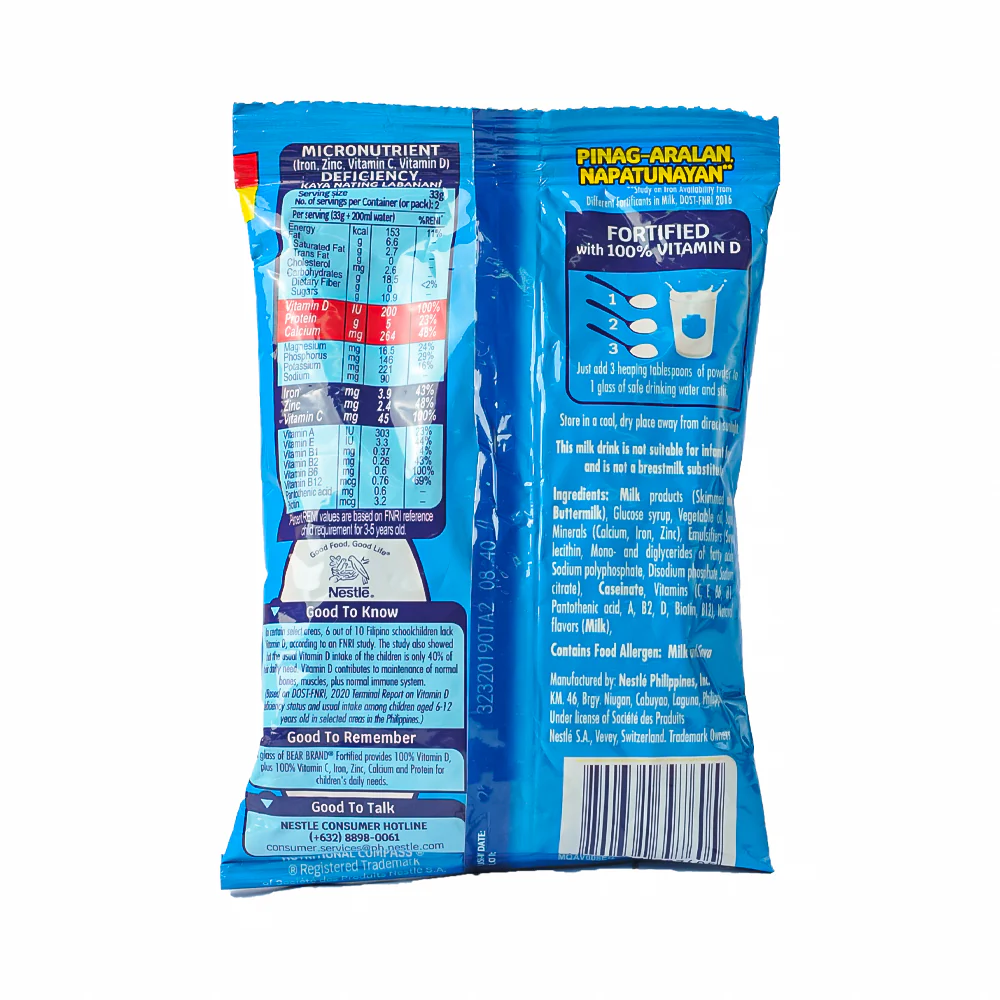non-toxic_waste: (224, 102, 792, 887)
